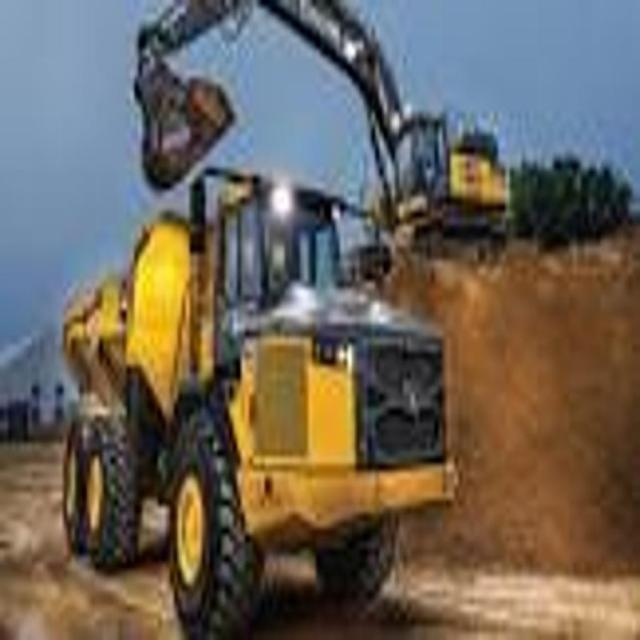dump_truck: (54, 161, 461, 640)
